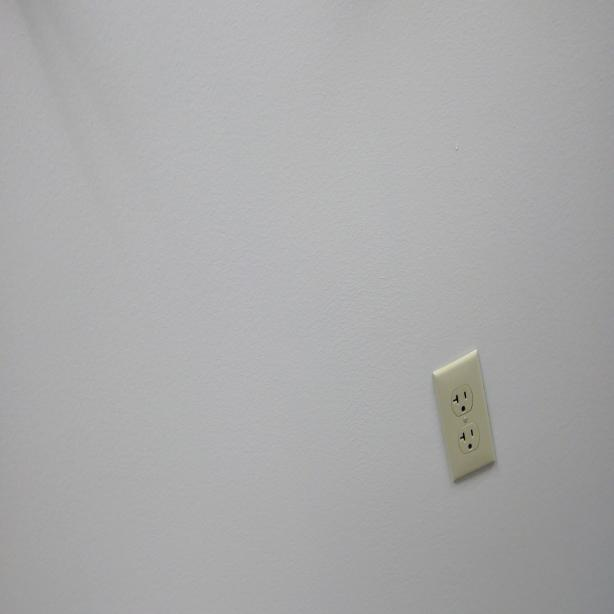typeb: (457, 422, 480, 456), (449, 385, 474, 414)
